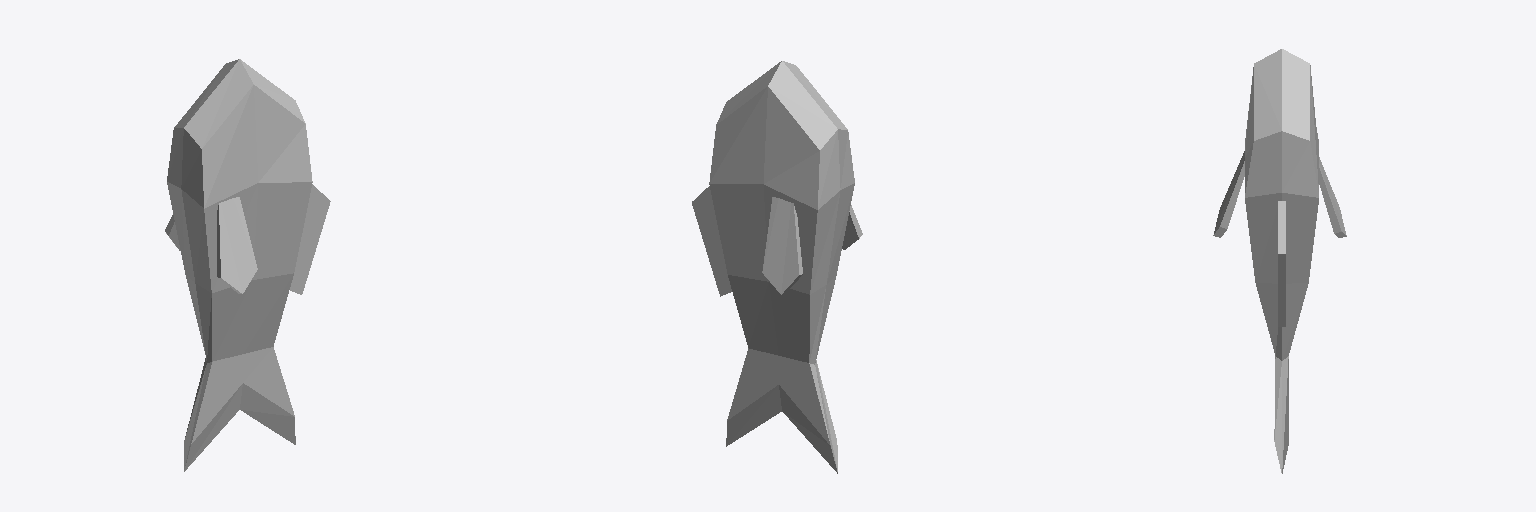
The model's file is misc02.obj.
3 renders of one model, left to right at view 1: azimuth 30°, elevation 25°; view 2: azimuth 150°, elevation 25°; view 3: azimuth 270°, elevation 25°, orthographic.
Parts seen in each view (by area): view 1: misc02; view 2: misc02; view 3: misc02.
Part boxes in pixels (left/top/right/bottom): misc02: left=165, top=59, right=330, bottom=471; misc02: left=692, top=61, right=862, bottom=473; misc02: left=1213, top=49, right=1346, bottom=473.
Bounding box in the file's own units: 0.0052 × 0.0135 × 0.0041.